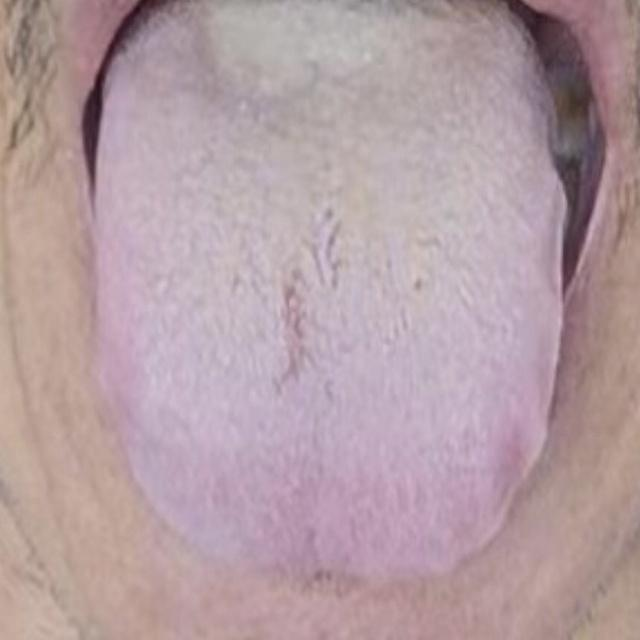baitaishe: (90, 1, 573, 591)
chihenshe: (534, 68, 573, 478)
liewenshe: (275, 210, 345, 389)
